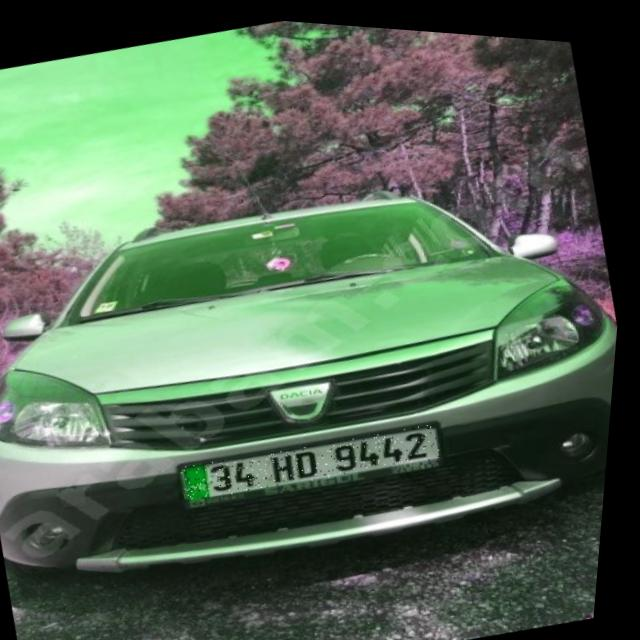license_plate: (184, 401, 451, 513)
